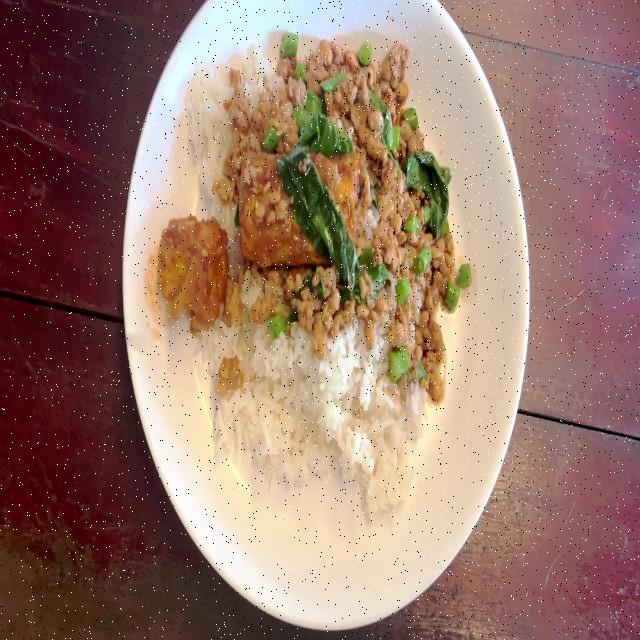fried_tofo: (241, 148, 361, 253), (164, 222, 223, 316)
minced_pork: (231, 40, 428, 155), (358, 147, 454, 379), (241, 262, 366, 326)
rice: (218, 337, 426, 492), (176, 73, 228, 211)
stir_fried_basil: (161, 33, 472, 513)
